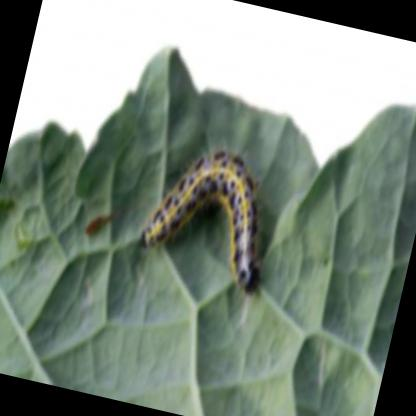pieris: (142, 147, 258, 288)
